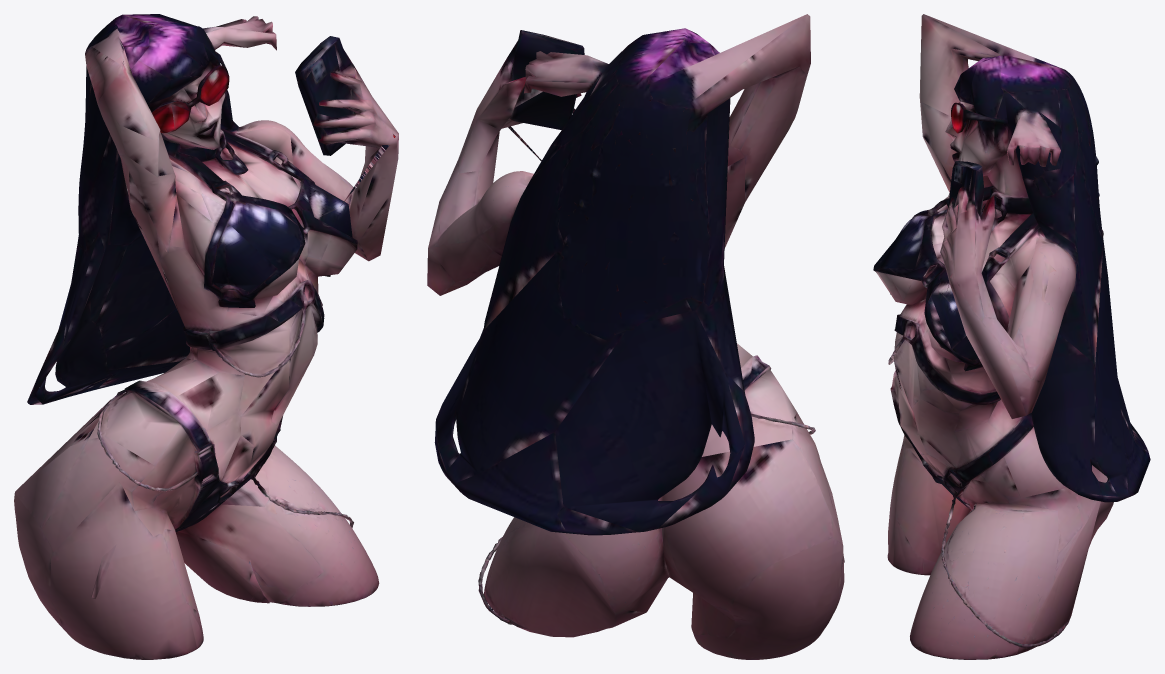
The model's file is 01a1a793-ccfe-7f3c-aee9-2e5d6740213b.glb.
The picture shows the model from 3 angles, left to right: view 1: azimuth 30°, elevation 25°; view 2: azimuth 150°, elevation 25°; view 3: azimuth 270°, elevation 25°; orthographic projection. The views are drawn at different scales.
Parts seen in each view (by area): view 1: node_0; view 2: node_0; view 3: node_0.
Boxes of the visible parts, left/top/right/bottom form: node_0: left=14, top=14, right=398, bottom=659; node_0: left=427, top=14, right=844, bottom=659; node_0: left=873, top=14, right=1150, bottom=659.
Size of the model in its own units: 0.6649 by 1.02 by 0.488.
Materials: 1 (1 with a texture image).
